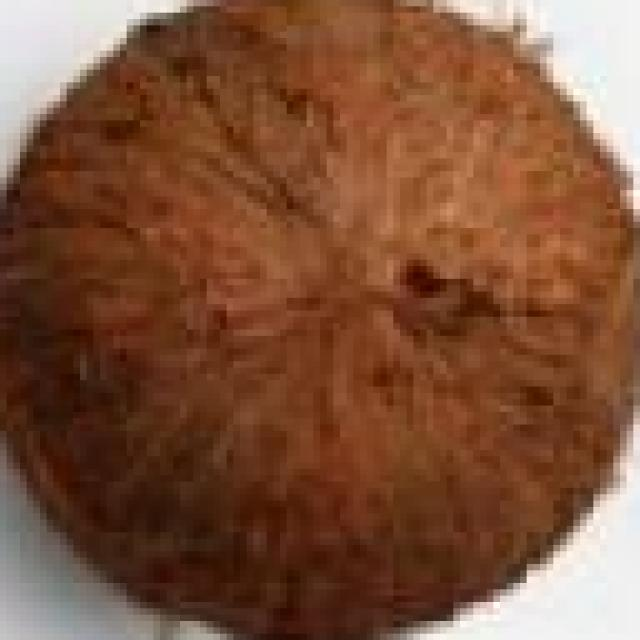Banana: (0, 6, 640, 640)
